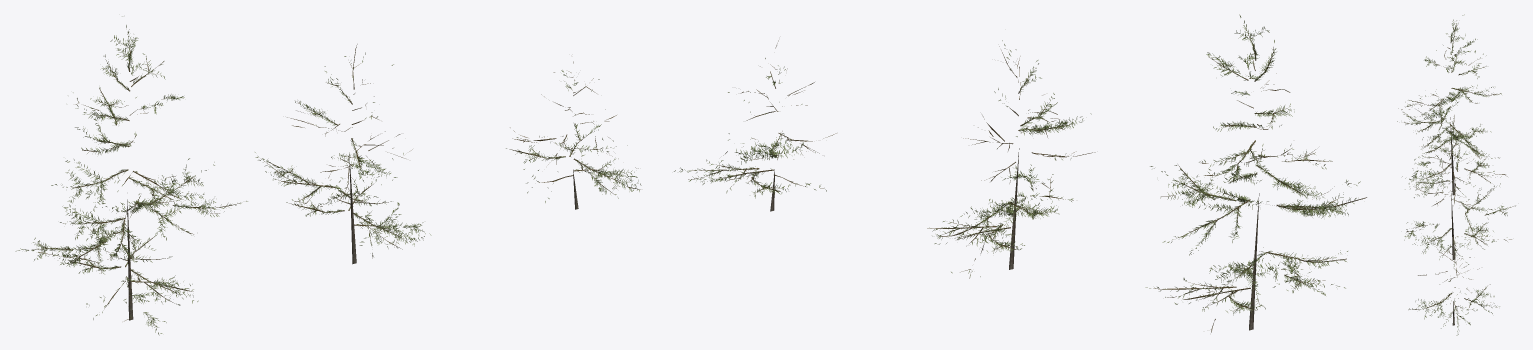
Rendered from fir-far.glb.
The picture shows the model from 3 angles, left to right: view 1: azimuth 30°, elevation 25°; view 2: azimuth 150°, elevation 25°; view 3: azimuth 270°, elevation 25°; orthographic projection. The views are drawn at different scales.
Parts seen in each view (by area): view 1: fir_sapling_a; view 2: fir_sapling_a; view 3: fir_sapling_a.
Boxes of the visible parts, x1,y1,x2,y2 form: fir_sapling_a: (15, 16, 641, 335); fir_sapling_a: (674, 14, 1366, 332); fir_sapling_a: (1397, 14, 1515, 335).
Bounding box in the file's own units: 2.71 × 1.28 × 0.7883.
Materials: 2 (2 with a texture image).
